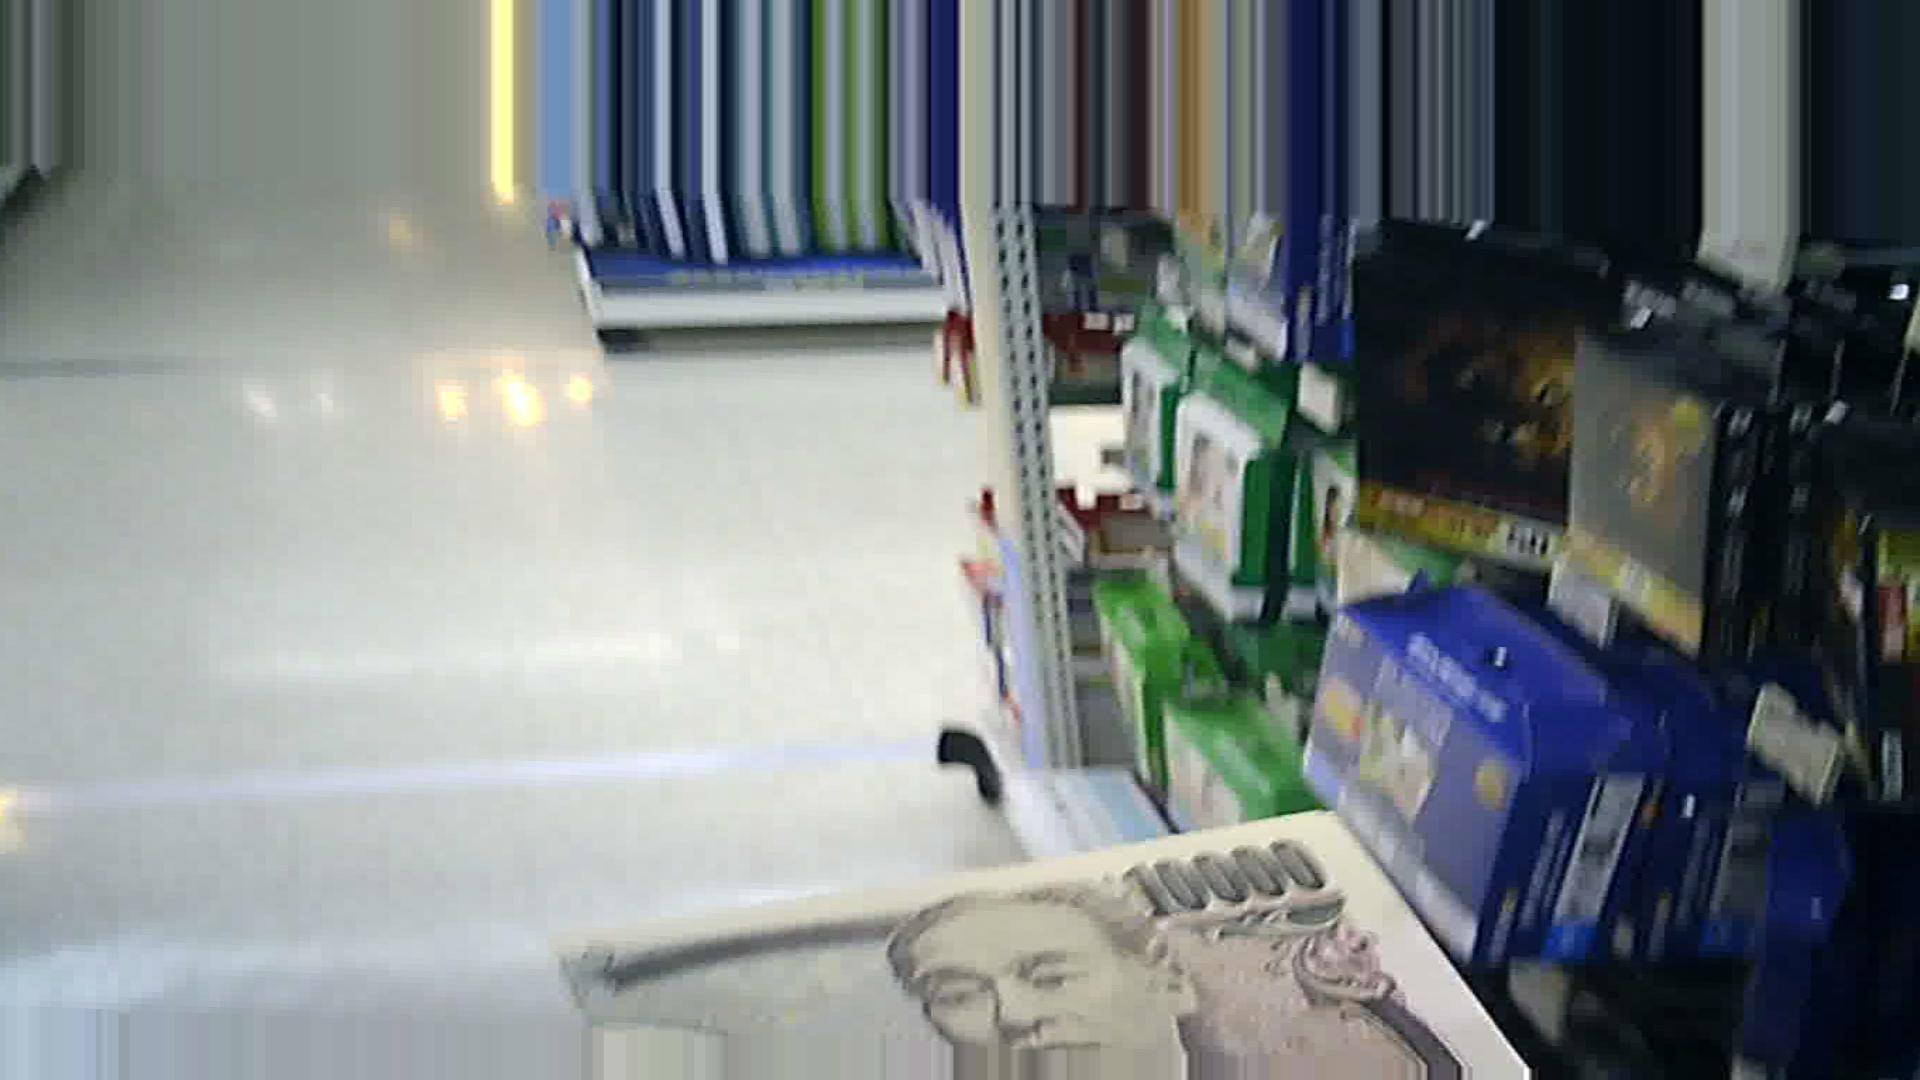10,000 Yen: (542, 818, 1516, 1079)
